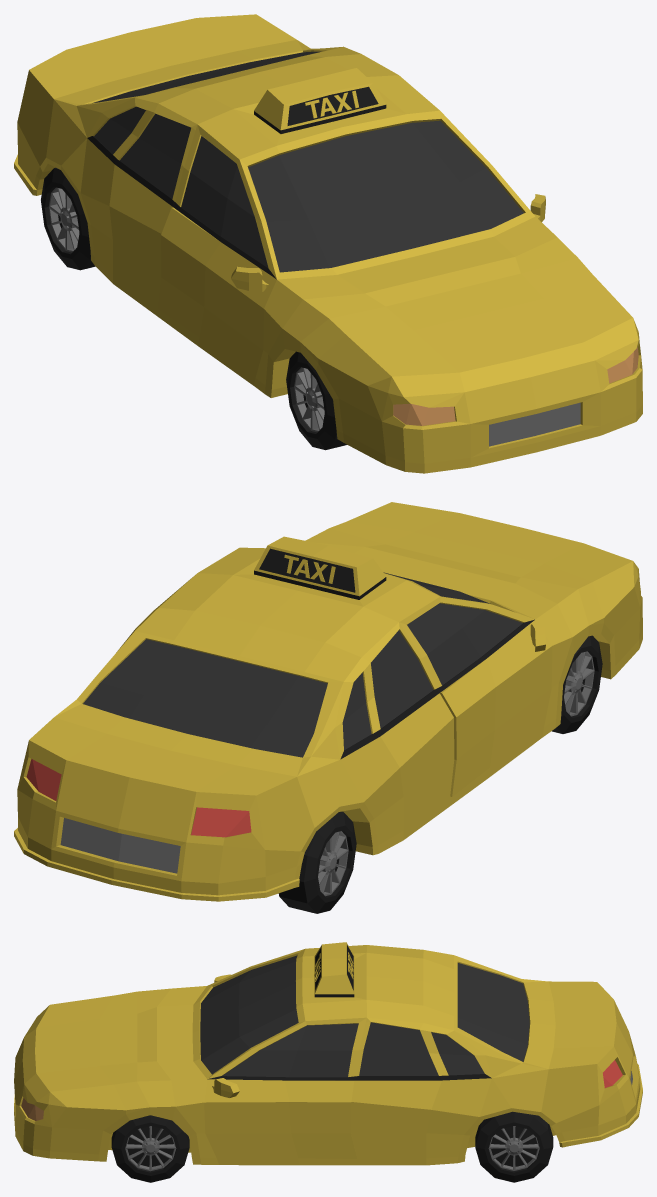
Rendered from xe_taxi.glb.
3 renders of one model, top to bottom at view 1: azimuth 30°, elevation 25°; view 2: azimuth 150°, elevation 25°; view 3: azimuth 270°, elevation 25°, orthographic. The views are drawn at different scales.
Visible parts, largest first — view 1: Taxi_Cube.009; view 2: Taxi_Cube.009; view 3: Taxi_Cube.009.
Boxes of the visible parts, left/top/right/bottom form: Taxi_Cube.009: left=14, top=14, right=642, bottom=473; Taxi_Cube.009: left=14, top=502, right=642, bottom=913; Taxi_Cube.009: left=14, top=942, right=642, bottom=1182.
Size of the model in its own units: 1.81 by 1.31 by 4.22.
1 material, 1 textured.
